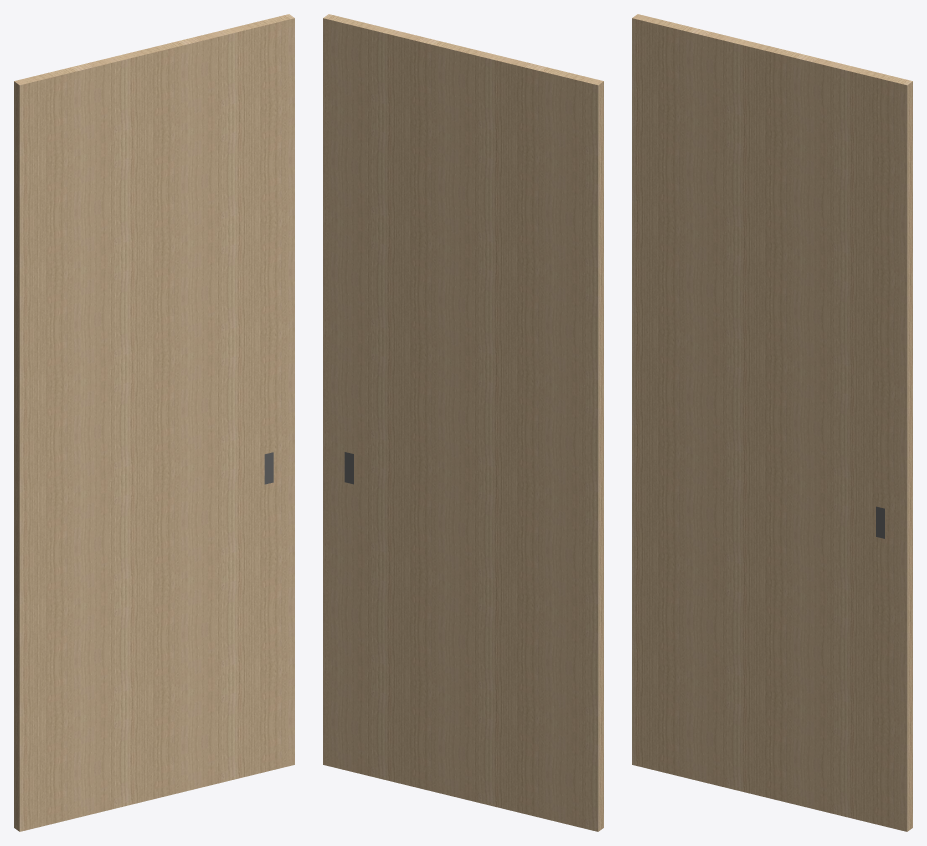
Rendered from SM_Door_14.fbx.
The picture shows the model from 3 angles, left to right: view 1: azimuth 30°, elevation 25°; view 2: azimuth 150°, elevation 25°; view 3: azimuth 330°, elevation 25°; orthographic projection.
Parts seen in each view (by area): view 1: SM_Door_14; view 2: SM_Door_14; view 3: SM_Door_14.
Part boxes in pixels (x1,y1,x2,y2): SM_Door_14: [14, 14, 294, 831]; SM_Door_14: [323, 14, 603, 831]; SM_Door_14: [632, 14, 912, 831].
Bounding box in the file's own units: 0.76 × 1.97 × 0.0295.
2 materials, 1 textured.
